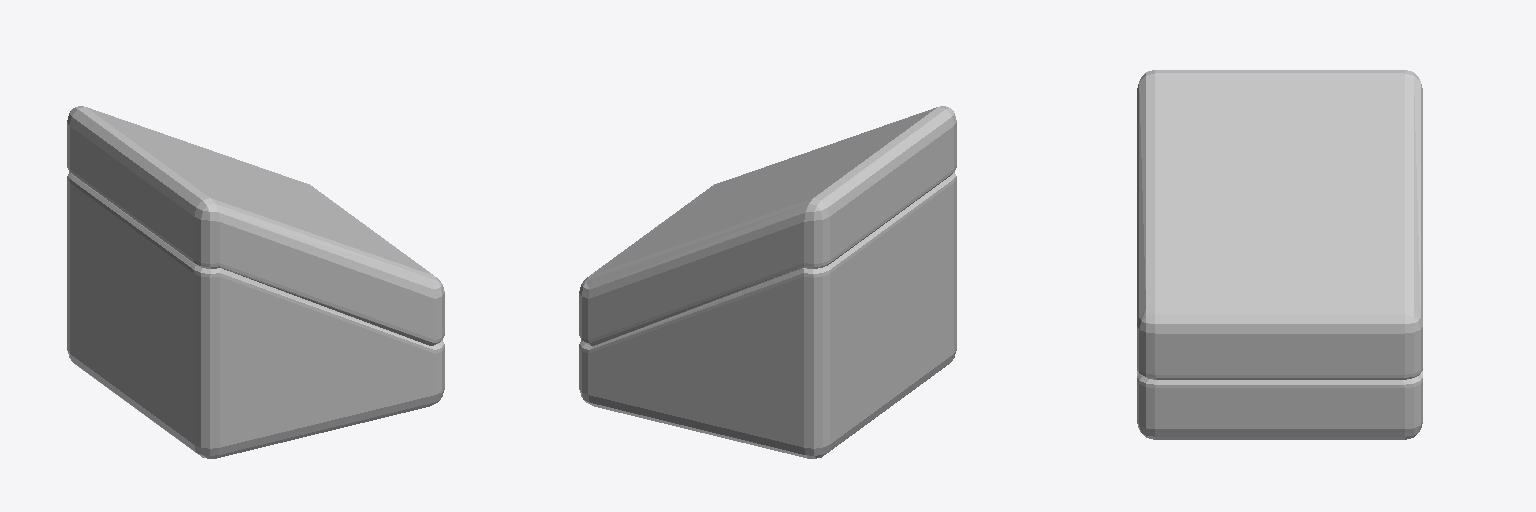
File: tileSlopeLowHigh_graveyard.obj
3 views of the same model, side by side, from view 1: azimuth 30°, elevation 25°; view 2: azimuth 150°, elevation 25°; view 3: azimuth 270°, elevation 25° (orthographic).
Parts seen in each view (by area): view 1: tileSlopeLowHigh_graveyard_Cube.043; view 2: tileSlopeLowHigh_graveyard_Cube.043; view 3: tileSlopeLowHigh_graveyard_Cube.043.
Boxes of the visible parts, <box> form: tileSlopeLowHigh_graveyard_Cube.043: <box>67,106,444,458</box>; tileSlopeLowHigh_graveyard_Cube.043: <box>579,106,956,458</box>; tileSlopeLowHigh_graveyard_Cube.043: <box>1137,70,1422,439</box>.
Size of the model in its own units: 2 by 2 by 2.